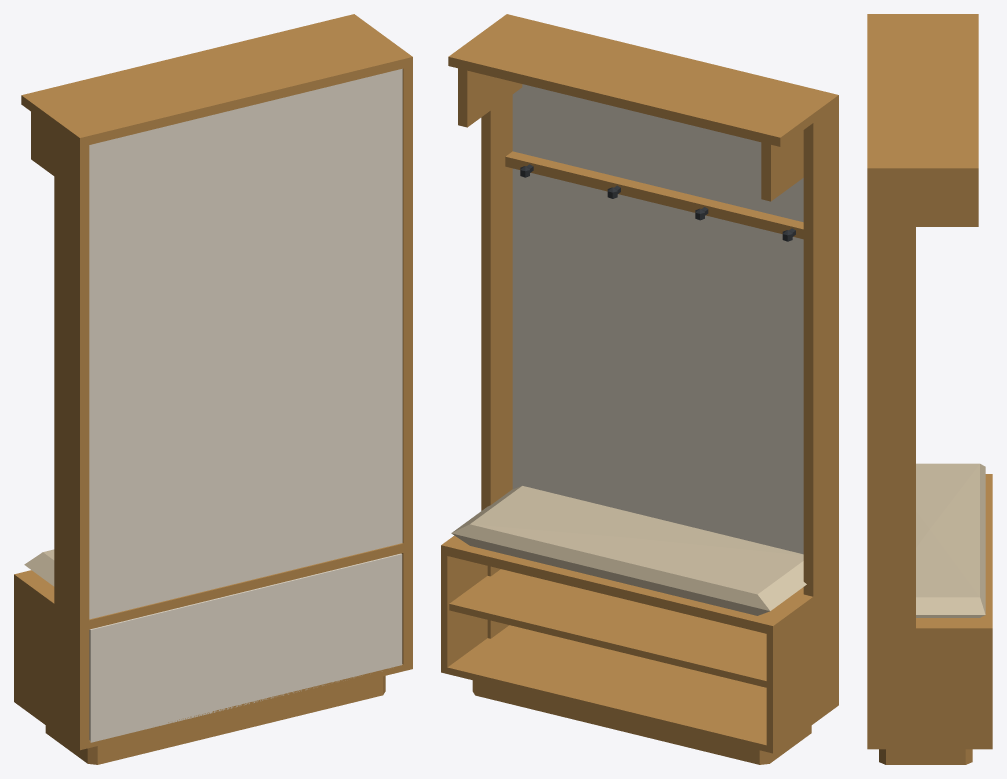
The model's file is Updated shelf.fbx.
3 renders of one model, left to right at view 1: azimuth 30°, elevation 25°; view 2: azimuth 150°, elevation 25°; view 3: azimuth 270°, elevation 25°, orthographic. The views are drawn at different scales.
Parts seen in each view (by area): view 1: SM_LPI_Storage_HallUnit_01.010, SM_LPI_Storage_HallUnit_01.004, SM_LPI_Storage_HallUnit_01.020, SM_LPI_Storage_HallUnit_01.008, SM_LPI_Storage_HallUnit_01.009, SM_LPI_Storage_HallUnit_01.005, SM_LPI_Storage_HallUnit_01, SM_LPI_Storage_HallUnit_01.002, SM_LPI_Storage_HallUnit_01.003, SM_LPI_Storage_HallUnit_01.021, SM_LPI_Storage_HallUnit_01.001; view 2: SM_LPI_Storage_HallUnit_01.010, SM_LPI_Storage_HallUnit_01.007, SM_LPI_Storage_HallUnit_01.020, SM_LPI_Storage_HallUnit_01.003, SM_LPI_Storage_HallUnit_01.008, SM_LPI_Storage_HallUnit_01.006, SM_LPI_Storage_HallUnit_01.009, SM_LPI_Storage_HallUnit_01, SM_LPI_Storage_HallUnit_01.002, SM_LPI_Storage_HallUnit_01.011, SM_LPI_Storage_HallUnit_01.005, SM_LPI_Storage_HallUnit_01.001 (+2 smaller); view 3: SM_LPI_Storage_HallUnit_01.009, SM_LPI_Storage_HallUnit_01.020, SM_LPI_Storage_HallUnit_01.001, SM_LPI_Storage_HallUnit_01.007, SM_LPI_Storage_HallUnit_01.022, SM_LPI_Storage_HallUnit_01.002, SM_LPI_Storage_HallUnit_01.005.
Boxes of the visible parts, bbox=[...] form: SM_LPI_Storage_HallUnit_01.010: bbox=[89, 68, 402, 619]; SM_LPI_Storage_HallUnit_01.004: bbox=[89, 553, 402, 742]; SM_LPI_Storage_HallUnit_01.020: bbox=[21, 14, 412, 146]; SM_LPI_Storage_HallUnit_01.008: bbox=[54, 124, 89, 749]; SM_LPI_Storage_HallUnit_01.009: bbox=[401, 61, 412, 667]; SM_LPI_Storage_HallUnit_01.005: bbox=[45, 676, 385, 764]; SM_LPI_Storage_HallUnit_01: bbox=[14, 573, 86, 750]; SM_LPI_Storage_HallUnit_01.002: bbox=[19, 542, 407, 630]; SM_LPI_Storage_HallUnit_01.003: bbox=[88, 664, 407, 747]; SM_LPI_Storage_HallUnit_01.021: bbox=[31, 112, 54, 175]; SM_LPI_Storage_HallUnit_01.001: bbox=[406, 541, 412, 670]; SM_LPI_Storage_HallUnit_01.010: bbox=[512, 84, 803, 554]; SM_LPI_Storage_HallUnit_01.007: bbox=[451, 486, 806, 615]; SM_LPI_Storage_HallUnit_01.020: bbox=[448, 14, 838, 146]; SM_LPI_Storage_HallUnit_01.003: bbox=[447, 625, 767, 751]; SM_LPI_Storage_HallUnit_01.008: bbox=[803, 99, 838, 709]; SM_LPI_Storage_HallUnit_01.006: bbox=[449, 569, 766, 687]; SM_LPI_Storage_HallUnit_01.009: bbox=[481, 94, 512, 638]; SM_LPI_Storage_HallUnit_01: bbox=[766, 578, 838, 753]; SM_LPI_Storage_HallUnit_01.002: bbox=[446, 538, 807, 633]; SM_LPI_Storage_HallUnit_01.011: bbox=[505, 151, 803, 239]; SM_LPI_Storage_HallUnit_01.005: bbox=[472, 680, 811, 764]; SM_LPI_Storage_HallUnit_01.001: bbox=[441, 535, 487, 673]; SM_LPI_Storage_HallUnit_01.009: bbox=[867, 172, 915, 749]; SM_LPI_Storage_HallUnit_01.020: bbox=[867, 14, 978, 176]; SM_LPI_Storage_HallUnit_01.001: bbox=[867, 625, 992, 749]; SM_LPI_Storage_HallUnit_01.007: bbox=[916, 463, 985, 617]; SM_LPI_Storage_HallUnit_01.022: bbox=[916, 177, 978, 226]; SM_LPI_Storage_HallUnit_01.002: bbox=[916, 477, 992, 625]; SM_LPI_Storage_HallUnit_01.005: bbox=[879, 749, 972, 764].
Size of the model in its own units: 105 by 192 by 36.
Materials: 1 (1 with a texture image).
